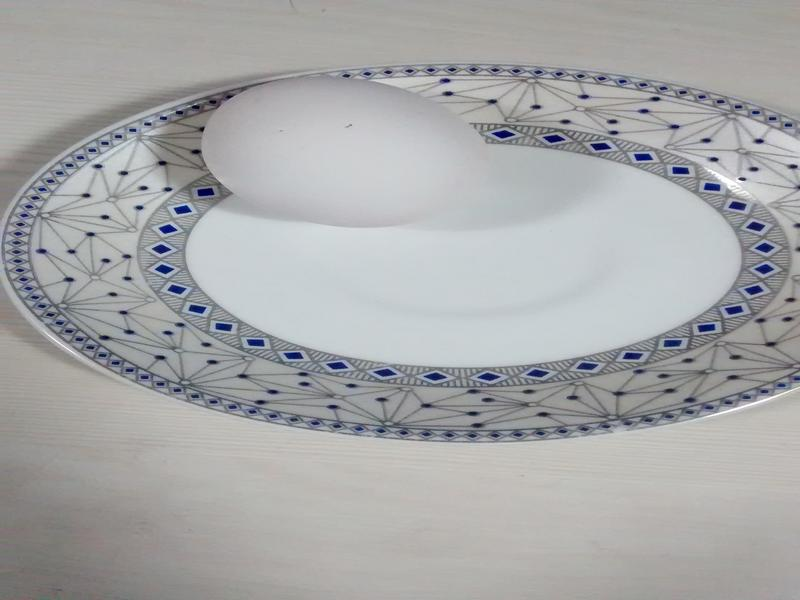egg: (201, 79, 487, 220)
